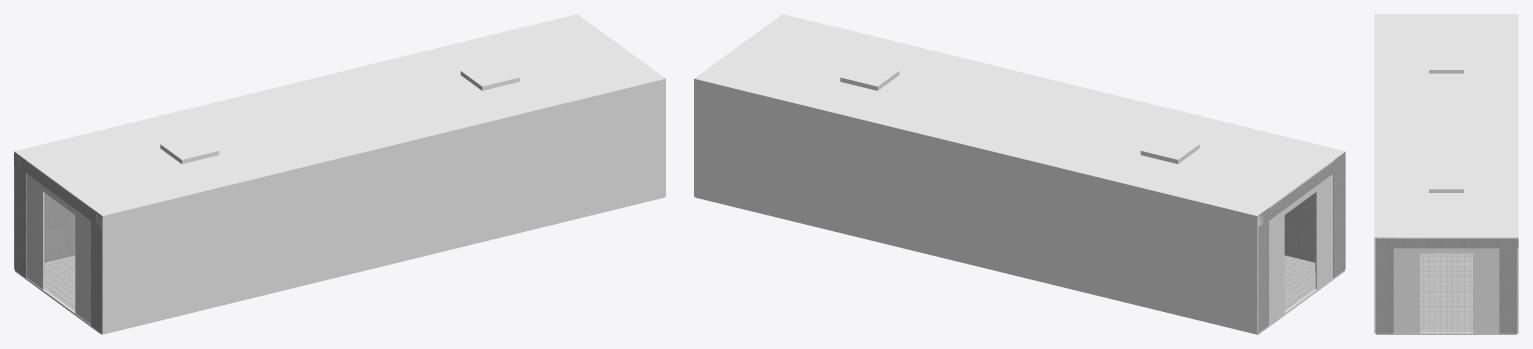
Rendered from Tunnel1_V2.fbx.
3 views of the same model, side by side, from view 1: azimuth 30°, elevation 25°; view 2: azimuth 150°, elevation 25°; view 3: azimuth 270°, elevation 25° (orthographic). The views are drawn at different scales.
Visible parts, largest first — view 1: node_id40, node_id37, node_id25, node_id43 (×2), node_id49 (×2), node_id46 (×2), node_id34, node_id31, node_id22; view 2: node_id43, node_id37, node_id25, node_id49 (×2), node_id40 (×2), node_id46 (×2), node_id34, node_id31, node_id22; view 3: node_id37, node_id28, node_id46 (×2), node_id49 (×2), node_id19, node_id31, node_id34, node_id40, node_id43.
Boxes of the visible parts, bbox=[...] form: node_id40: bbox=[101, 78, 665, 333]; node_id37: bbox=[15, 14, 664, 215]; node_id25: bbox=[26, 174, 90, 324]; node_id43 (×2): bbox=[14, 14, 577, 269]; node_id49 (×2): bbox=[15, 152, 101, 332]; node_id46 (×2): bbox=[15, 197, 664, 334]; node_id34: bbox=[460, 61, 519, 90]; node_id31: bbox=[160, 135, 219, 163]; node_id22: bbox=[14, 153, 100, 226]; node_id43: bbox=[694, 78, 1258, 333]; node_id37: bbox=[695, 14, 1344, 215]; node_id25: bbox=[1256, 174, 1333, 334]; node_id49 (×2): bbox=[1258, 152, 1344, 332]; node_id40 (×2): bbox=[782, 14, 1345, 269]; node_id46 (×2): bbox=[695, 197, 1344, 334]; node_id34: bbox=[840, 61, 899, 90]; node_id31: bbox=[1140, 135, 1199, 163]; node_id22: bbox=[1267, 161, 1333, 220]; node_id37: bbox=[1376, 14, 1516, 238]; node_id28: bbox=[1393, 248, 1499, 333]; node_id46 (×2): bbox=[1376, 253, 1516, 334]; node_id49 (×2): bbox=[1376, 237, 1516, 333]; node_id19: bbox=[1379, 238, 1518, 248]; node_id31: bbox=[1429, 55, 1463, 73]; node_id34: bbox=[1429, 174, 1463, 192]; node_id40: bbox=[1374, 14, 1375, 333]; node_id43: bbox=[1517, 14, 1518, 333].
Bounding box in the file's own units: 0.512 × 0.1075 × 0.1393.
Materials: 35 (22 with a texture image).
